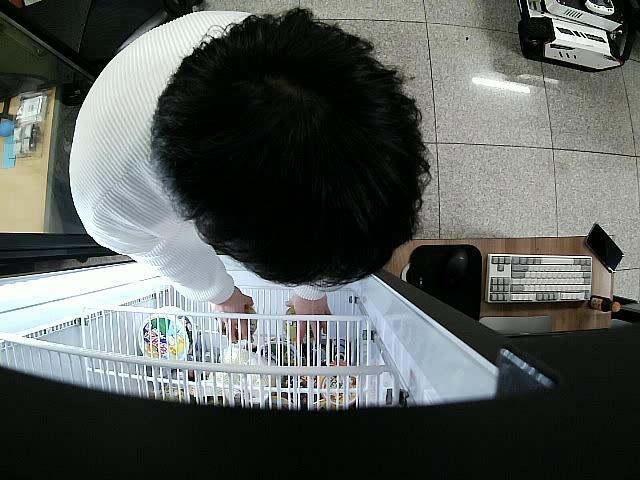04_chapagetti_S: (218, 308, 259, 342), (280, 308, 314, 344)
